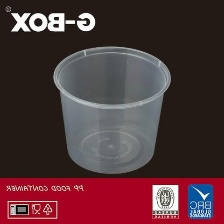plastic_box: (47, 40, 180, 177)
